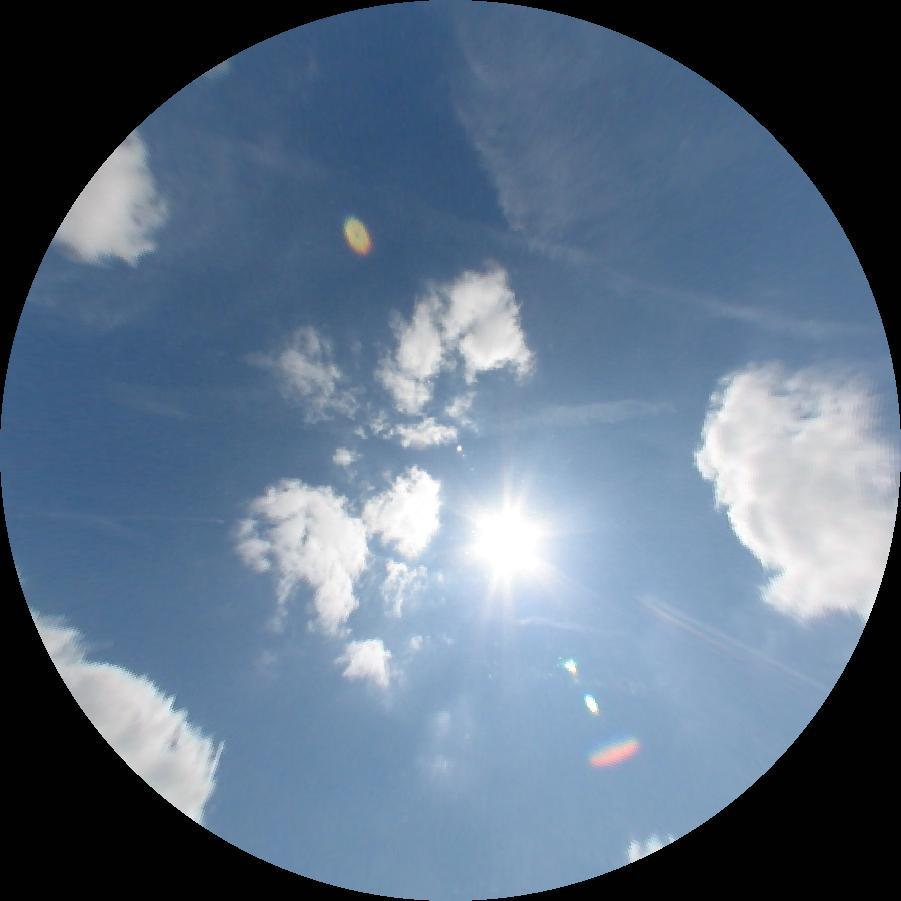contrail veryold: (232, 141, 887, 363), (475, 393, 660, 439)
parasite: (6, 509, 297, 526)
sun: (472, 506, 542, 570)
